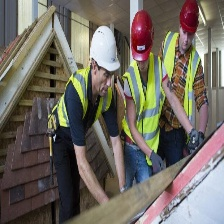helmet: (89, 24, 121, 78), (131, 9, 156, 66), (180, 1, 199, 38)
person: (47, 22, 128, 224), (121, 6, 175, 202), (165, 1, 212, 166)
vest: (51, 62, 119, 154), (163, 29, 208, 162), (125, 58, 170, 157)
